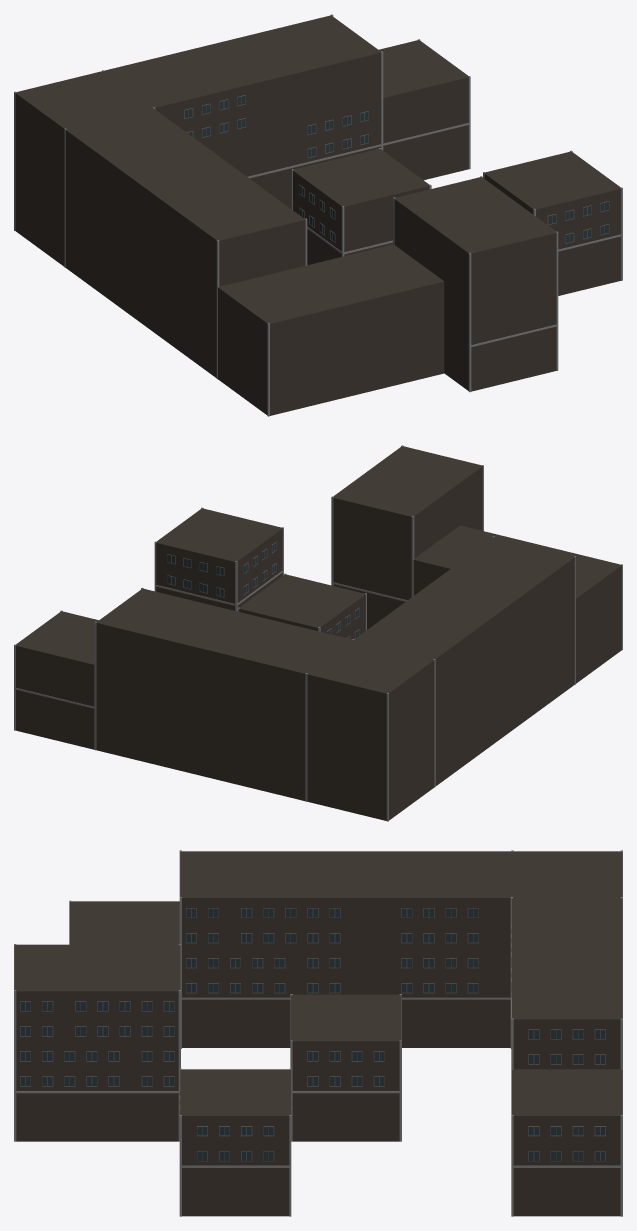
File: alleyBuilding1.fbx
The picture shows the model from 3 angles, top to bottom: view 1: azimuth 30°, elevation 25°; view 2: azimuth 150°, elevation 25°; view 3: azimuth 270°, elevation 25°; orthographic projection. The views are drawn at different scales.
Parts seen in each view (by area): view 1: Cube; view 2: Cube; view 3: Cube.
Boxes of the visible parts, box(x1,y1,x2,y2) form: Cube: box(14, 14, 622, 416); Cube: box(14, 445, 622, 821); Cube: box(14, 850, 622, 1216).
Size of the model in its own units: 9220 by 3010 by 11020.
